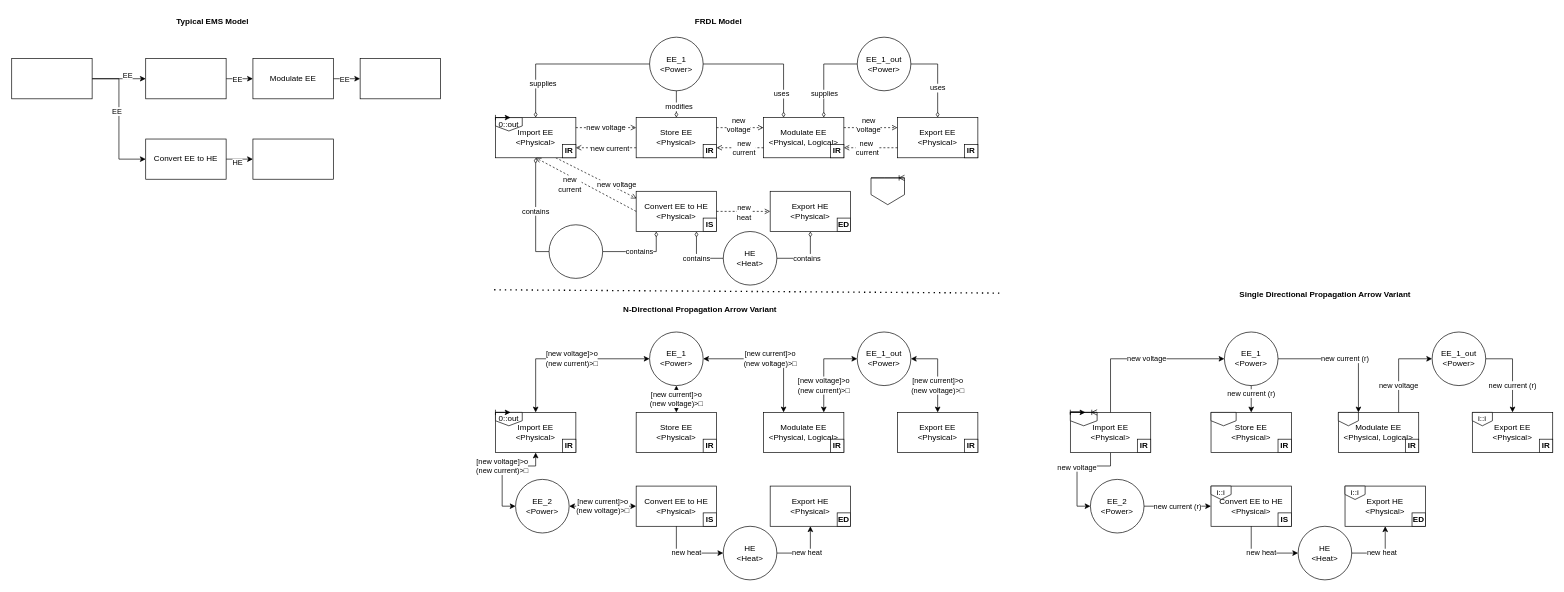
This 1564x592 diagram has some shape labels left out. Each missing label, with the centre of its shape:
EE_2 <Heat>: the point at 575,251
Export EE: the point at 400,78
Export HE: the point at 292,158
i:1m:i: the point at 1223,419
i:1s:i: the point at 1348,419
Import EE: the point at 51,78
no new states: the point at 887,191
s::e: the point at 1083,419
Store EE: the point at 185,78
